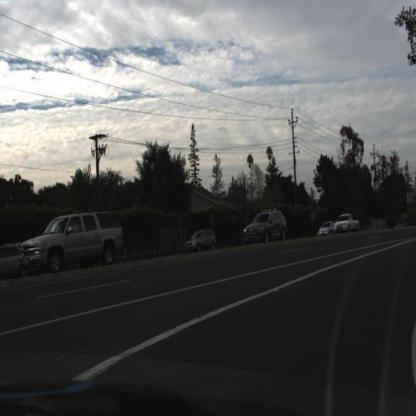car: (20, 212, 126, 272), (244, 210, 289, 247), (2, 241, 32, 283), (184, 229, 218, 256), (336, 210, 361, 238), (317, 219, 334, 240)
